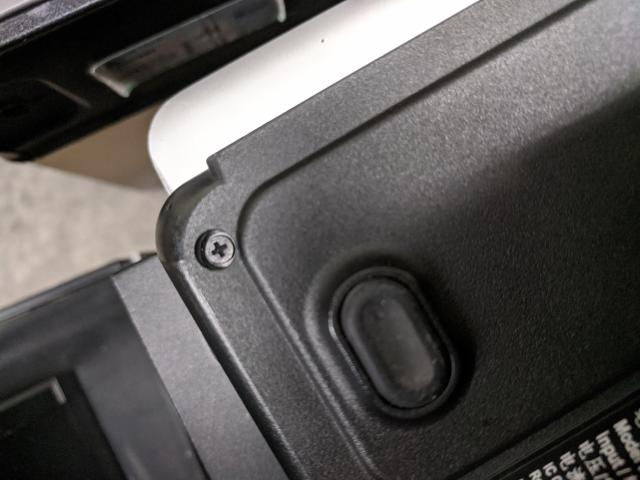CRS: (204, 234, 234, 266)
